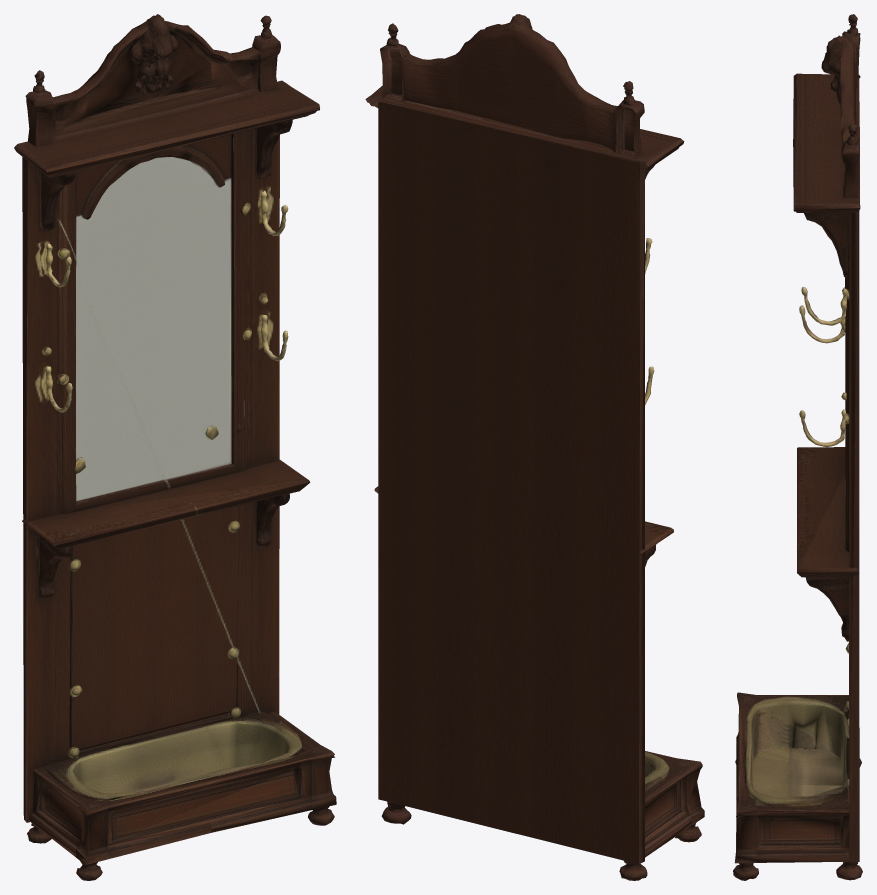
Rendered from rrr_prop_hall-stand_v1.glb.
3 renders of one model, left to right at view 1: azimuth 30°, elevation 25°; view 2: azimuth 150°, elevation 25°; view 3: azimuth 270°, elevation 25°, orthographic. The views are drawn at different scales.
Parts seen in each view (by area): view 1: Mesh_0; view 2: Mesh_0; view 3: Mesh_0.
Part boxes in pixels (box(x1,y1,x2,y2)): Mesh_0: box(14, 14, 336, 880); Mesh_0: box(365, 14, 704, 880); Mesh_0: box(733, 14, 862, 880).
Size of the model in its own units: 0.681 by 1.9 by 0.2848.
Materials: 1 (1 with a texture image).
